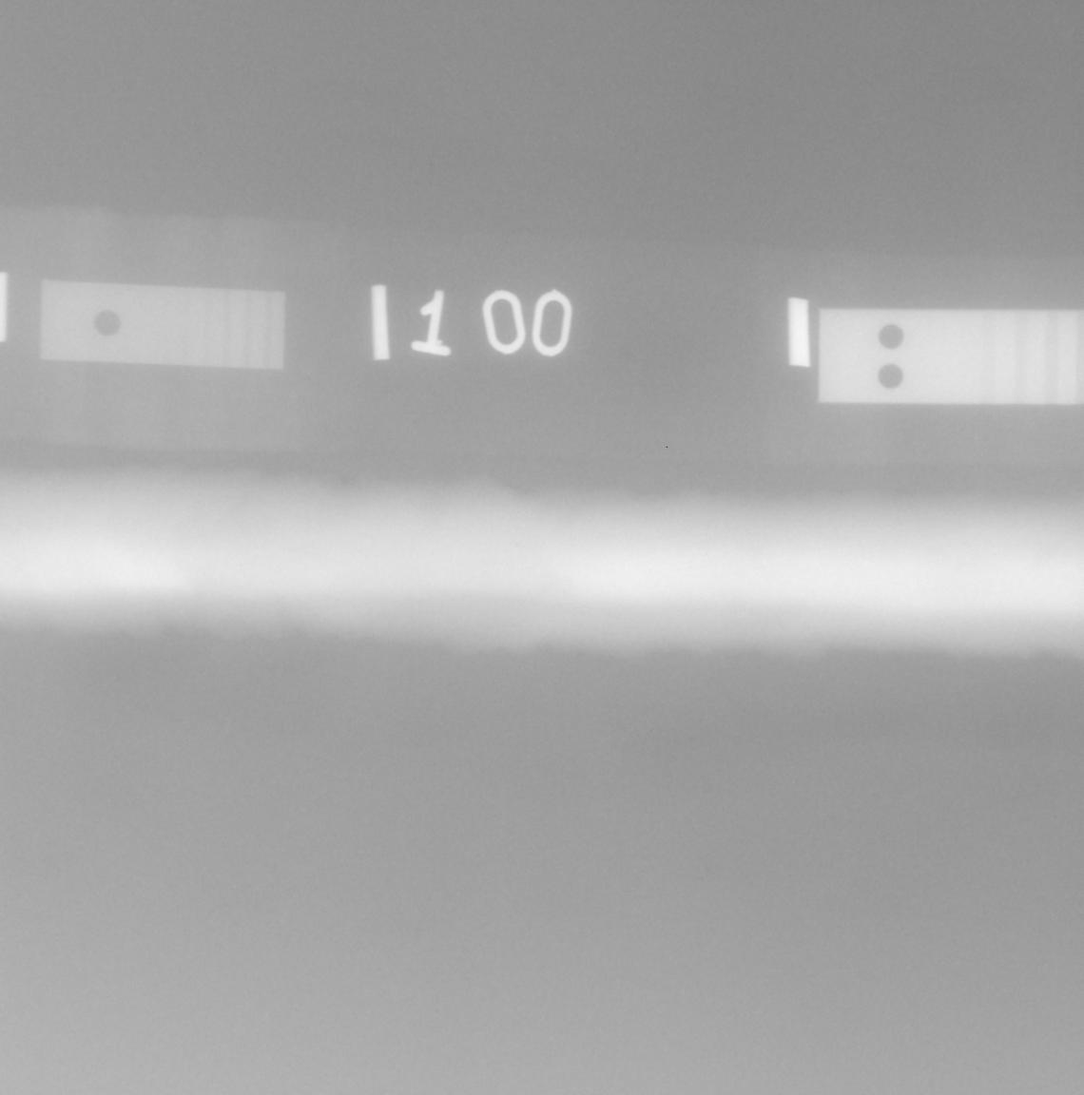Pore/Porosity: (516, 542, 519, 547)
Reference Standard 1: (39, 281, 284, 370)
